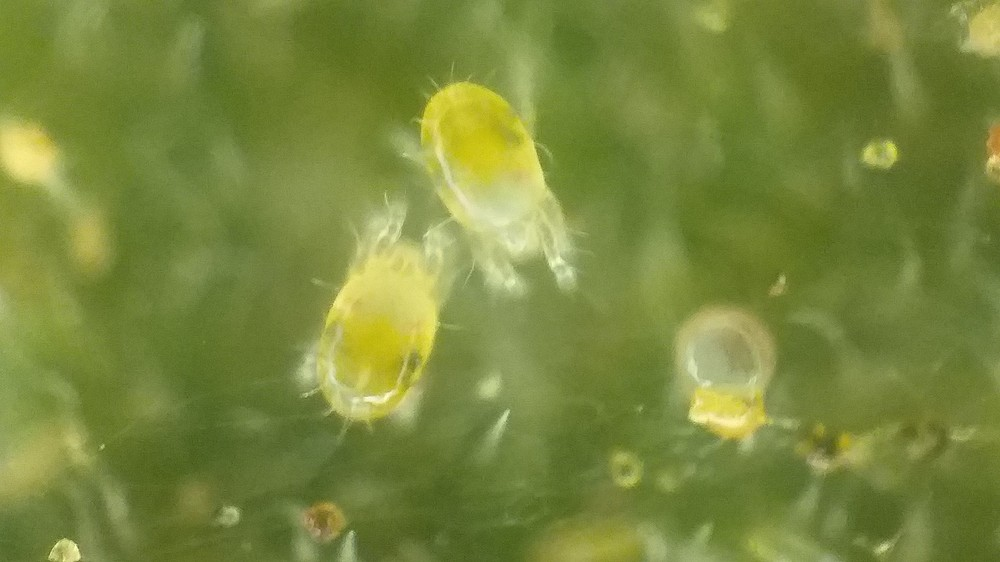Aracnido Rojo: (385, 65, 595, 299), (285, 197, 470, 429)
